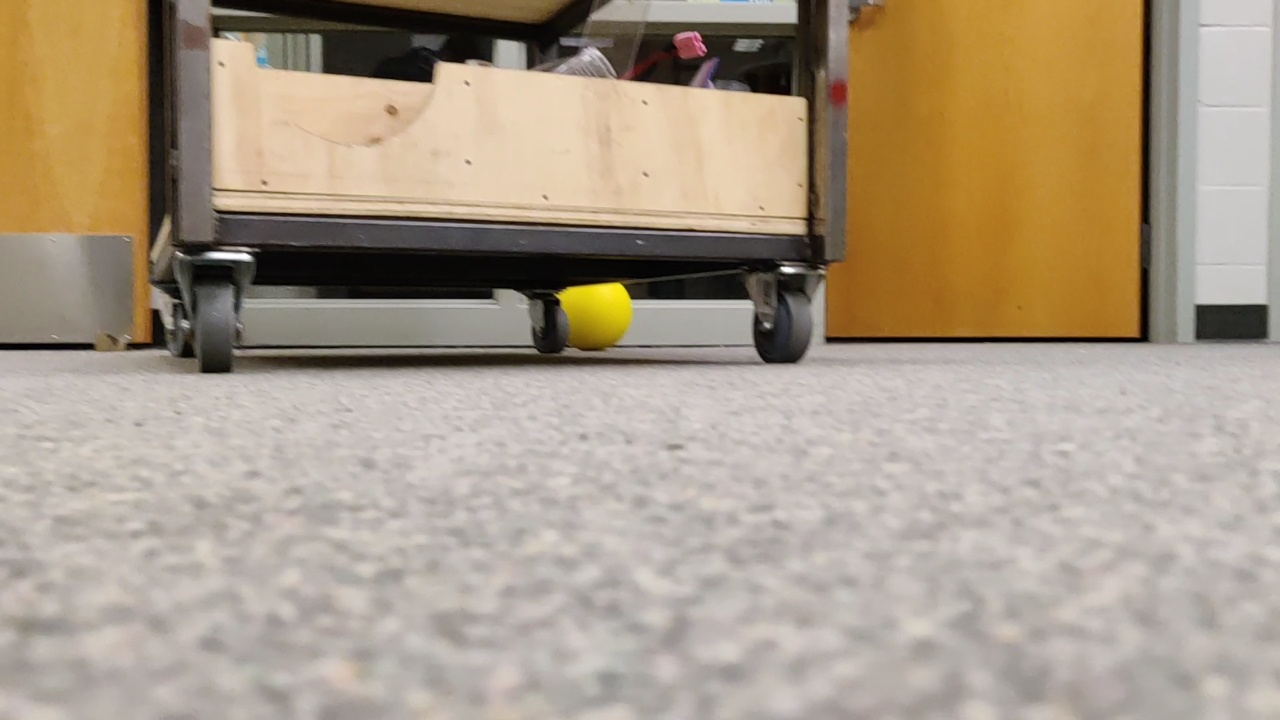Ball: (548, 273, 625, 346)
